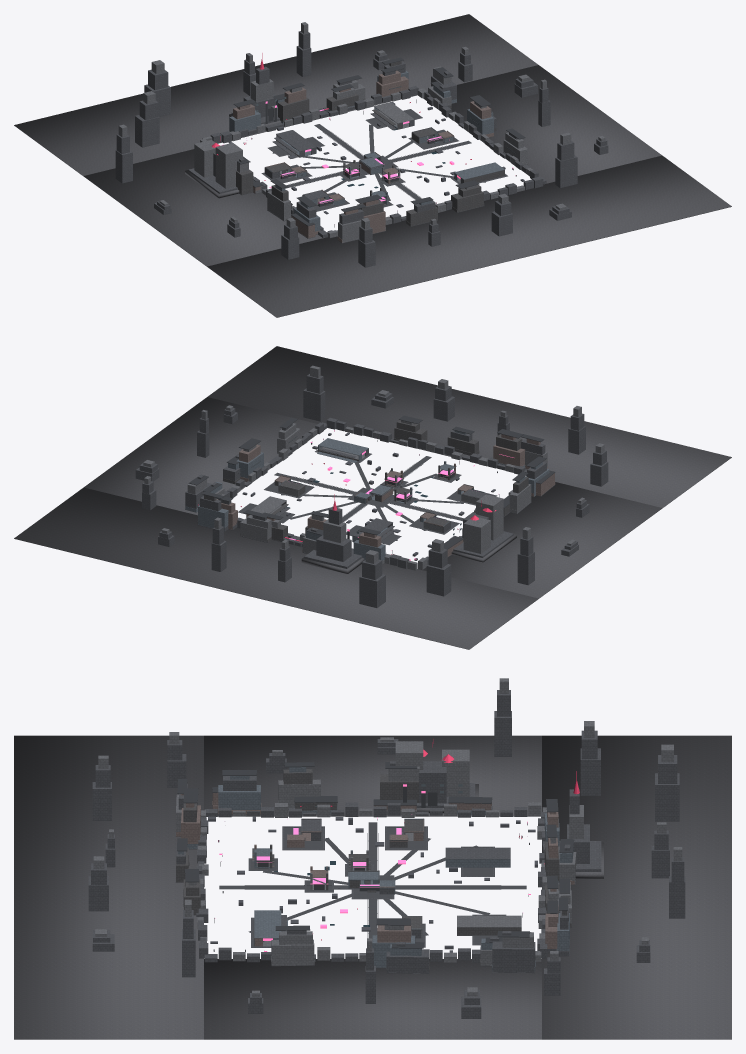
The model's file is yoichi-lod1.glb.
3 views of the same model, one above another, from view 1: azimuth 30°, elevation 25°; view 2: azimuth 150°, elevation 25°; view 3: azimuth 270°, elevation 25° (orthographic). The views are drawn at different scales.
Visible parts, largest first — view 1: HB_yoichi_LOD1_terrain, HB_yoichi_LOD1_wall_alt, HB_yoichi_LOD1_wall, HB_yoichi_LOD1_wall_weathered, HB_yoichi_LOD1_road, HB_yoichi_LOD1_wall_cool, HB_yoichi_LOD1_wall_warm, HB_yoichi_LOD1_trim, HB_yoichi_LOD1_LANDMARK_1_wall, HB_yoichi_LOD1_LANDMARK_0_wall_alt, HB_yoichi_LOD1_obstacle; view 2: HB_yoichi_LOD1_terrain, HB_yoichi_LOD1_wall_alt, HB_yoichi_LOD1_wall, HB_yoichi_LOD1_wall_cool, HB_yoichi_LOD1_road, HB_yoichi_LOD1_wall_weathered, HB_yoichi_LOD1_wall_warm, HB_yoichi_LOD1_trim, HB_yoichi_LOD1_LANDMARK_1_wall, HB_yoichi_LOD1_LANDMARK_0_wall_alt, HB_yoichi_LOD1_obstacle, HB_yoichi_LOD1_LANDMARK_1_wall_alt; view 3: HB_yoichi_LOD1_terrain, HB_yoichi_LOD1_wall_alt, HB_yoichi_LOD1_wall, HB_yoichi_LOD1_road, HB_yoichi_LOD1_wall_cool, HB_yoichi_LOD1_wall_weathered, HB_yoichi_LOD1_trim, HB_yoichi_LOD1_wall_warm, HB_yoichi_LOD1_LANDMARK_1_wall, HB_yoichi_LOD1_LANDMARK_0_wall_alt, HB_yoichi_LOD1_LANDMARK_1_wall_alt, HB_yoichi_LOD1_obstacle.
Boxes of the visible parts, box(x1,y1,x2,y2) form: HB_yoichi_LOD1_terrain: box(14, 14, 731, 317); HB_yoichi_LOD1_wall_alt: box(115, 31, 608, 267); HB_yoichi_LOD1_wall: box(118, 22, 605, 242); HB_yoichi_LOD1_wall_weathered: box(236, 61, 504, 226); HB_yoichi_LOD1_road: box(263, 110, 507, 211); HB_yoichi_LOD1_wall_cool: box(229, 70, 504, 231); HB_yoichi_LOD1_wall_warm: box(233, 70, 493, 242); HB_yoichi_LOD1_trim: box(233, 57, 525, 227); HB_yoichi_LOD1_LANDMARK_1_wall: box(194, 140, 242, 188); HB_yoichi_LOD1_LANDMARK_0_wall_alt: box(231, 66, 279, 124); HB_yoichi_LOD1_obstacle: box(228, 102, 524, 231); HB_yoichi_LOD1_terrain: box(14, 346, 731, 649); HB_yoichi_LOD1_wall_alt: box(135, 374, 608, 607); HB_yoichi_LOD1_wall: box(143, 365, 604, 570); HB_yoichi_LOD1_wall_cool: box(185, 430, 549, 560); HB_yoichi_LOD1_road: box(238, 447, 494, 545); HB_yoichi_LOD1_wall_weathered: box(204, 420, 528, 542); HB_yoichi_LOD1_wall_warm: box(216, 434, 555, 556); HB_yoichi_LOD1_trim: box(188, 415, 555, 553); HB_yoichi_LOD1_LANDMARK_1_wall: box(463, 494, 503, 553); HB_yoichi_LOD1_LANDMARK_0_wall_alt: box(304, 506, 362, 568); HB_yoichi_LOD1_obstacle: box(238, 432, 495, 560); HB_yoichi_LOD1_LANDMARK_1_wall_alt: box(453, 512, 513, 557); HB_yoichi_LOD1_terrain: box(14, 735, 731, 1039); HB_yoichi_LOD1_wall_alt: box(88, 690, 685, 1018); HB_yoichi_LOD1_wall: box(93, 678, 682, 996); HB_yoichi_LOD1_road: box(219, 822, 526, 947); HB_yoichi_LOD1_wall_cool: box(178, 767, 573, 972); HB_yoichi_LOD1_wall_weathered: box(176, 769, 571, 972); HB_yoichi_LOD1_trim: box(177, 762, 574, 948); HB_yoichi_LOD1_wall_warm: box(176, 792, 574, 948); HB_yoichi_LOD1_LANDMARK_1_wall: box(395, 741, 469, 796); HB_yoichi_LOD1_LANDMARK_0_wall_alt: box(559, 789, 601, 871); HB_yoichi_LOD1_LANDMARK_1_wall_alt: box(416, 761, 475, 807); HB_yoichi_LOD1_obstacle: box(208, 816, 537, 952).
Bounding box in the file's own units: 642 × 91.53 × 642.
13 materials, 10 textured.
